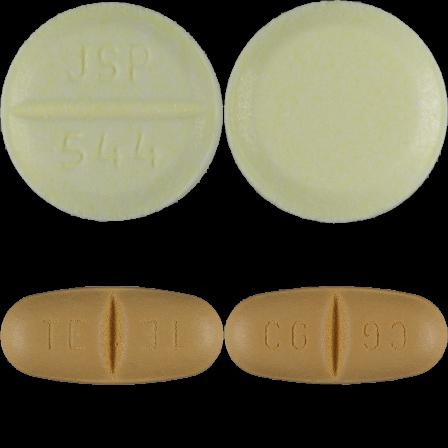55289-002: (0, 0, 224, 224)
